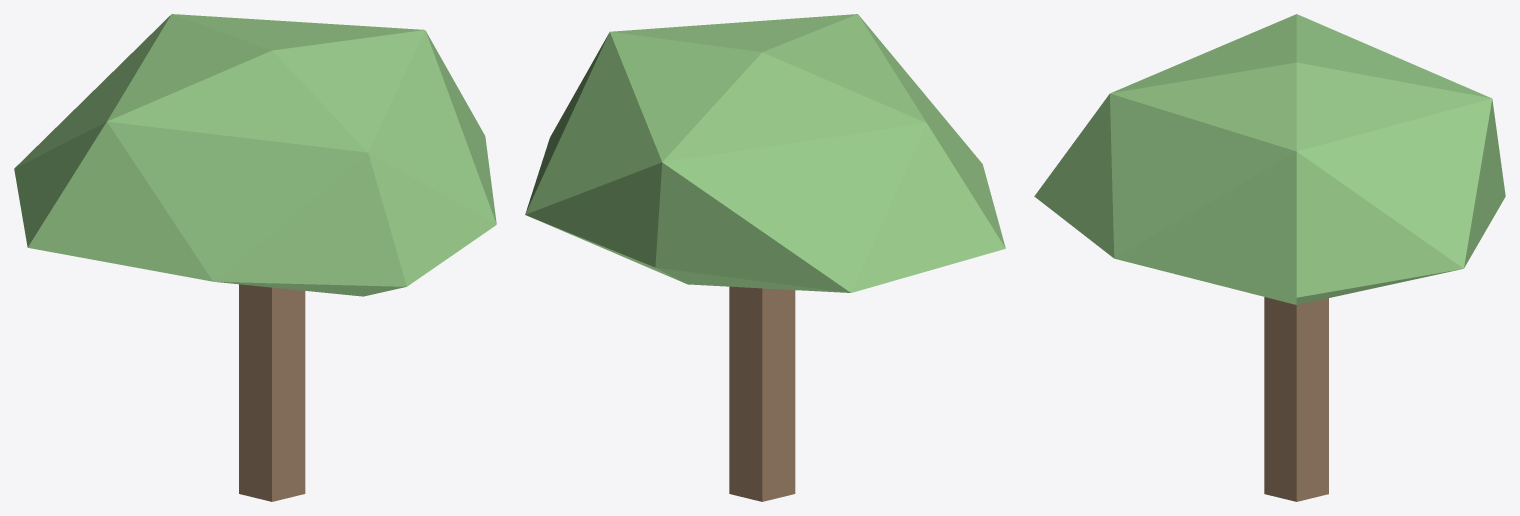
File: round_tree.glb
3 views of the same model, side by side, from view 1: azimuth 30°, elevation 25°; view 2: azimuth 150°, elevation 25°; view 3: azimuth 270°, elevation 25° (orthographic). The views are drawn at different scales.
Parts seen in each view (by area): view 1: crown, RoundTree; view 2: crown, RoundTree; view 3: crown, RoundTree.
Part boxes in pixels (<box>): crown: <box>14,14,496,296</box>; RoundTree: <box>239,284,305,501</box>; crown: <box>525,14,1005,292</box>; RoundTree: <box>729,286,795,501</box>; crown: <box>1034,14,1505,304</box>; RoundTree: <box>1264,297,1328,501</box>.
Size of the model in its own units: 1.93 by 1.75 by 1.77.
